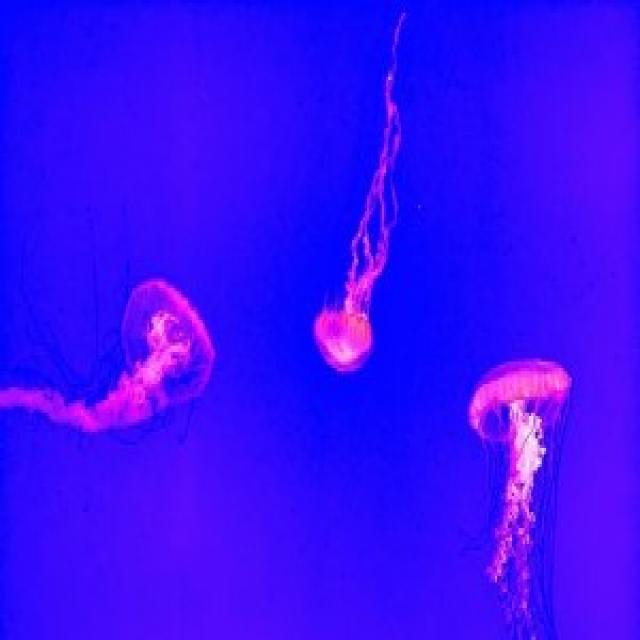Jellyfish: (464, 344, 608, 640), (10, 278, 217, 441), (312, 113, 381, 384)
